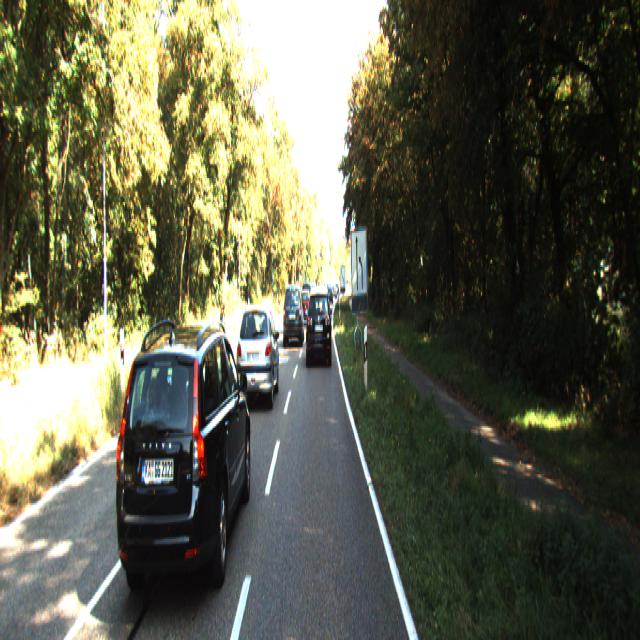Car: (111, 315, 252, 619), (234, 301, 280, 411), (306, 287, 332, 365), (283, 280, 304, 341)
